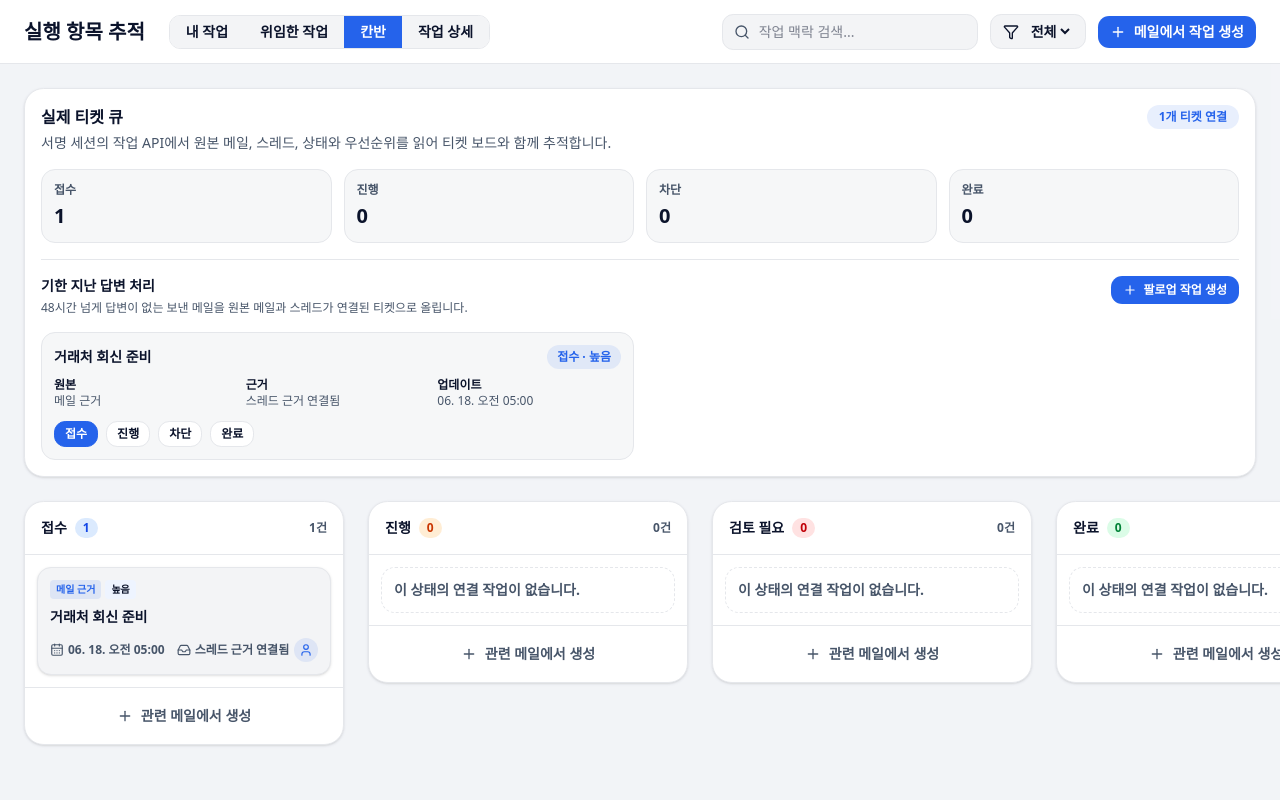
Test: TasksLayout › renders personal task rows as keyboard-native buttons that open details
Step 1. Click the button "내 작업" → x=207, y=32, box [170,16,244,48]
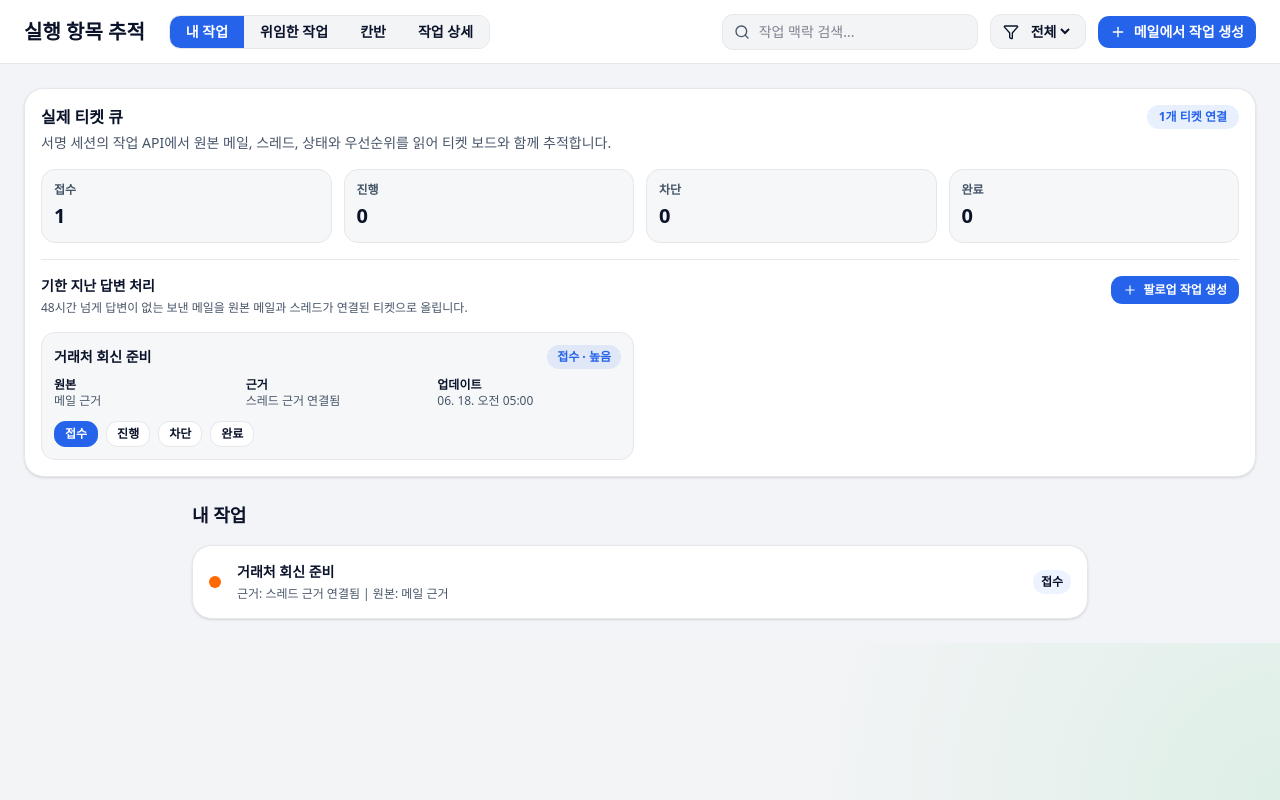
Expected: the button "거래처 회신 준비 근거: 스레드 근거 연결됨 | 원본: 메일 근거 접수" is shown
Step 2. Click the button "거래처 회신 준비 근거: 스레드 근거 연결됨 | 원본: 메일 근거 접수" → x=286, y=572, box [192,545,1088,619]
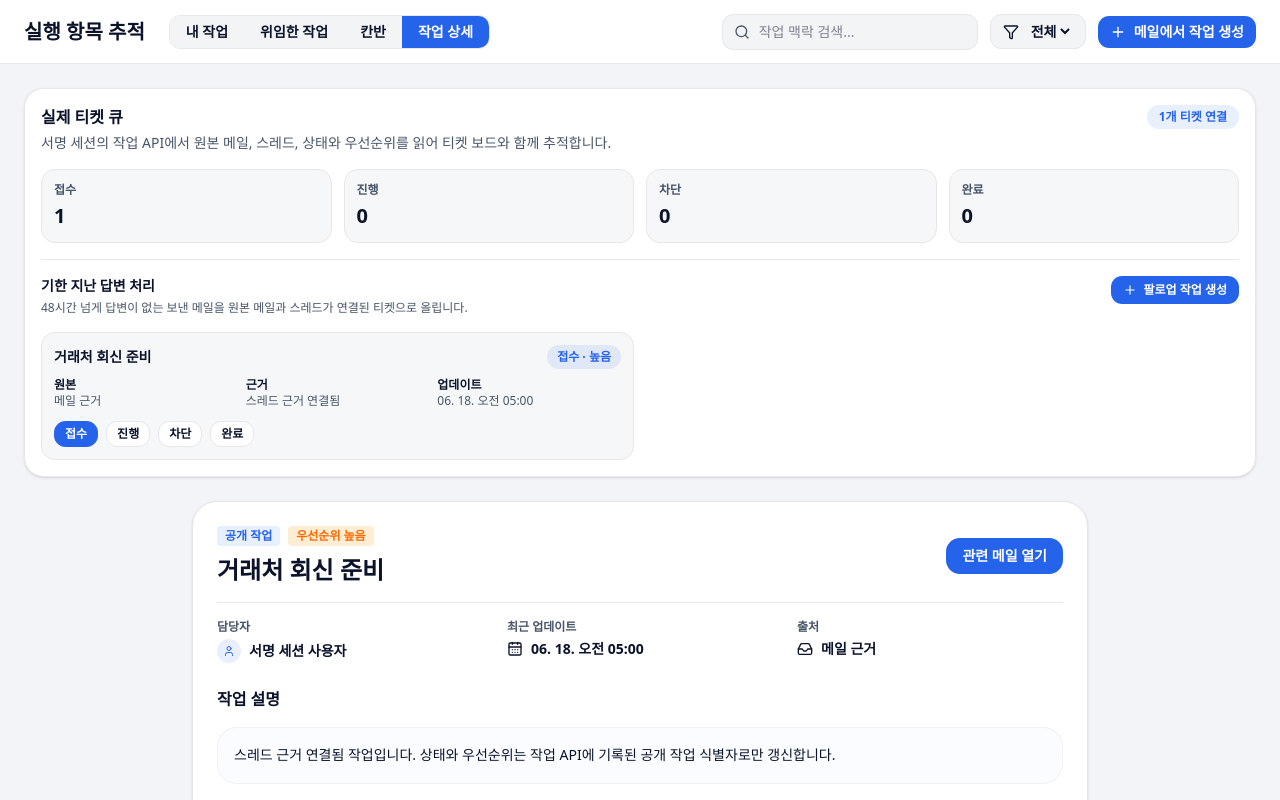
Expected: the text "거래처 회신 준비" is shown, [54,347,152,367]
Expected: the text "작업 설명" is shown, [217,688,280,710]
Expected: the text "관련 메일 열기" is shown, [946,538,1063,574]
